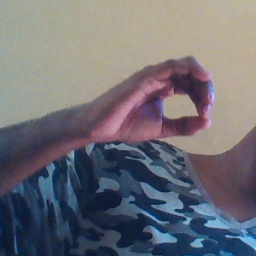O: (96, 50, 222, 146)
